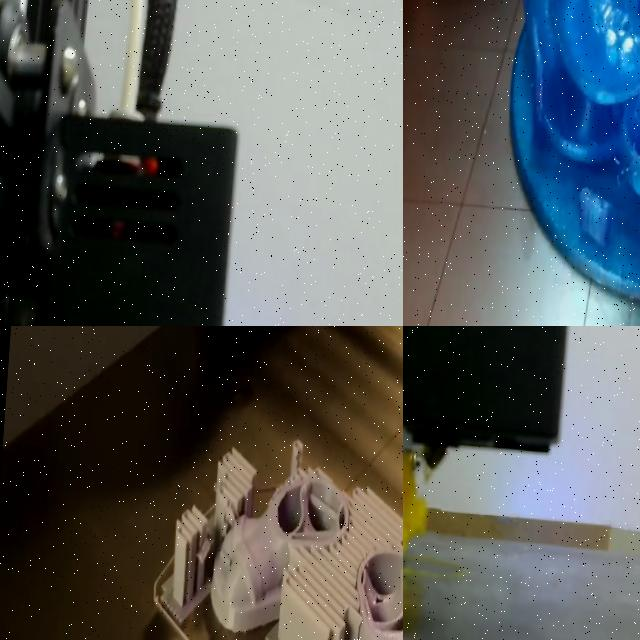spaghetti: (403, 437, 449, 583), (602, 148, 640, 196)
